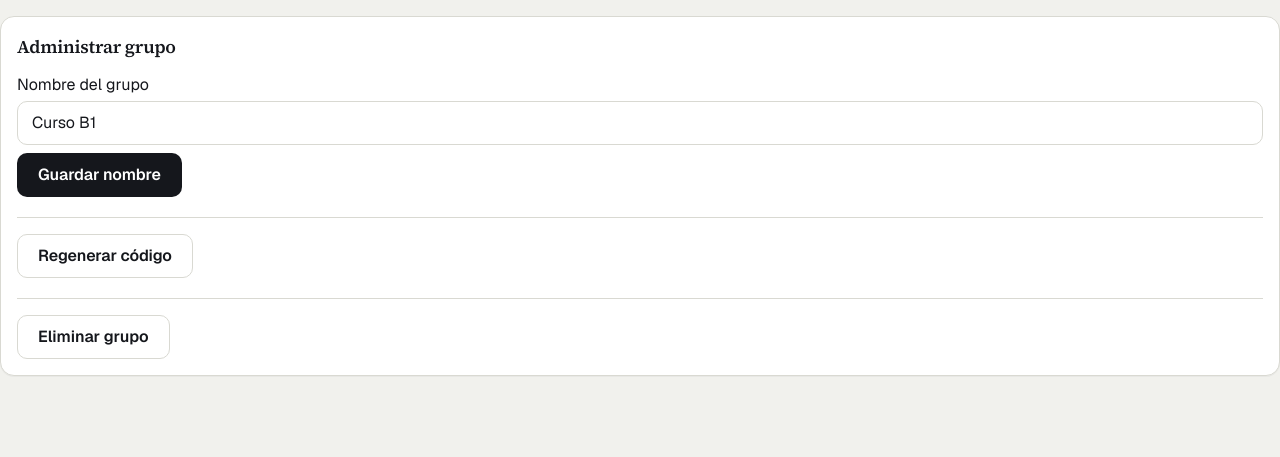
Test case: GroupAdminPanel (RF-09) › el servidor rechaza a quien no es administrador y se muestra el motivo
Click the button "Regenerar código" at {"x": 105, "y": 256}, box x1=17 y1=234 x2=193 y2=278
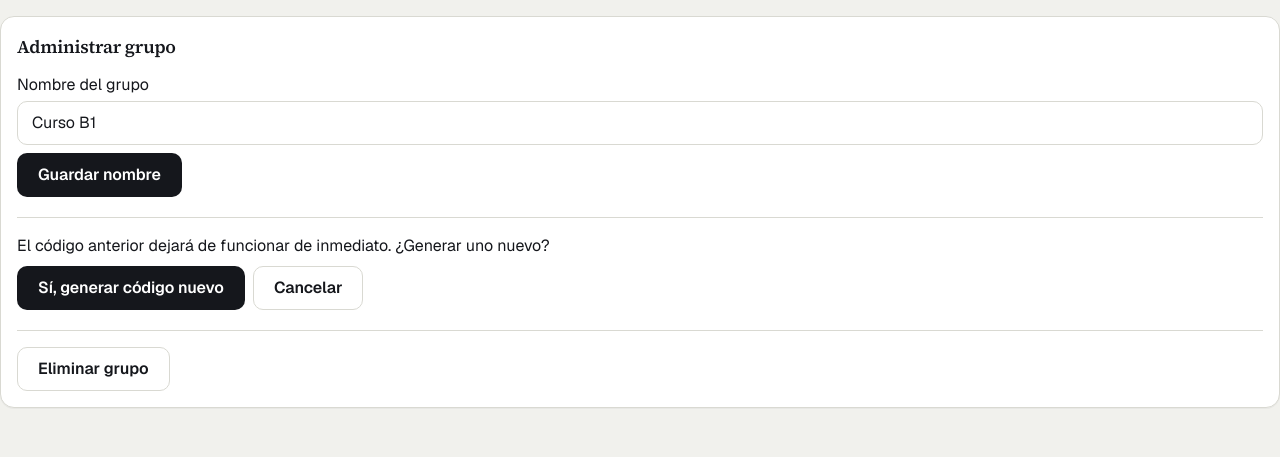
Click the button "Sí, generar código nuevo" at {"x": 131, "y": 288}, box x1=17 y1=266 x2=245 y2=310
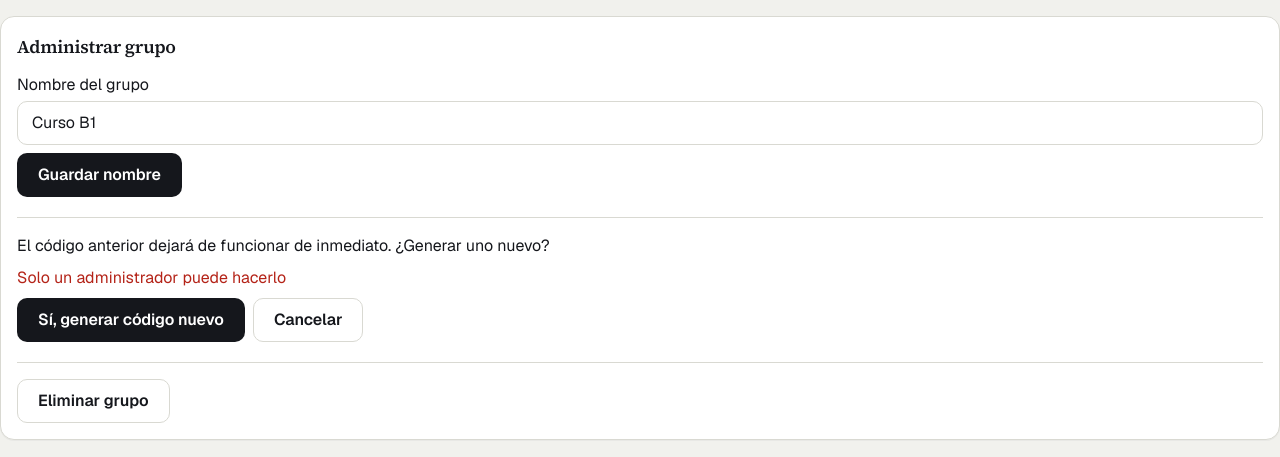
expect the message reads "Solo un administrador puede hacerlo": met, box x1=17 y1=267 x2=286 y2=288
